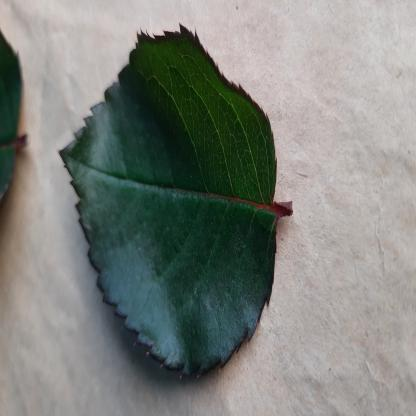normal: (67, 31, 279, 369)
